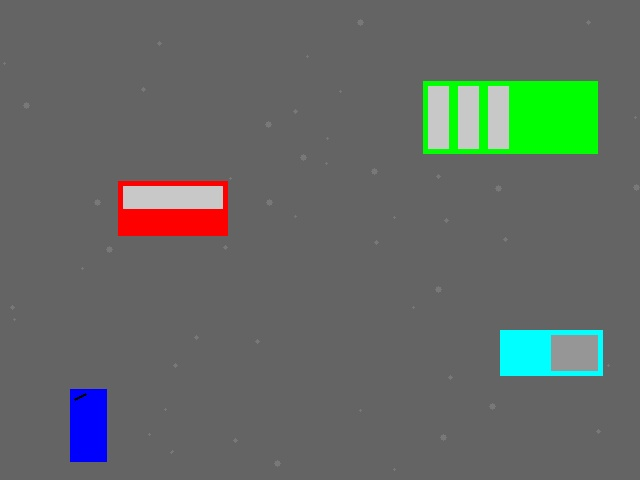bus: (423, 81, 597, 153)
car: (118, 181, 227, 235)
motorcycle: (70, 389, 106, 461)
truck: (500, 330, 602, 375)
